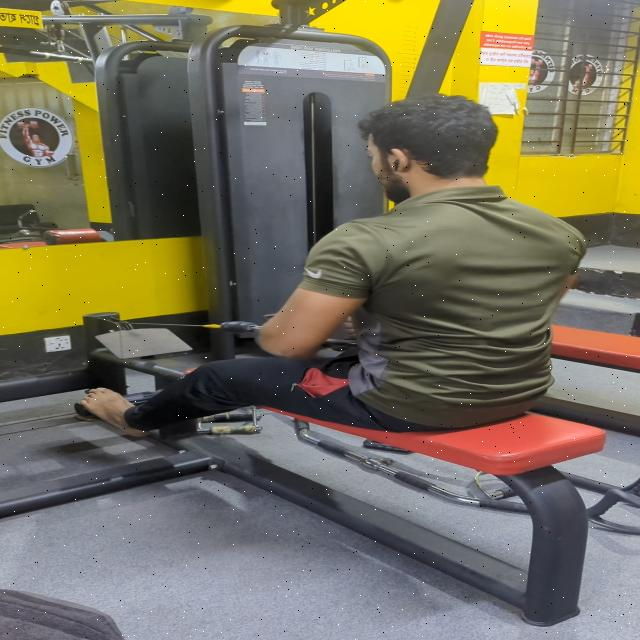Normal_RowingMachineExercise: (0, 83, 640, 534)
